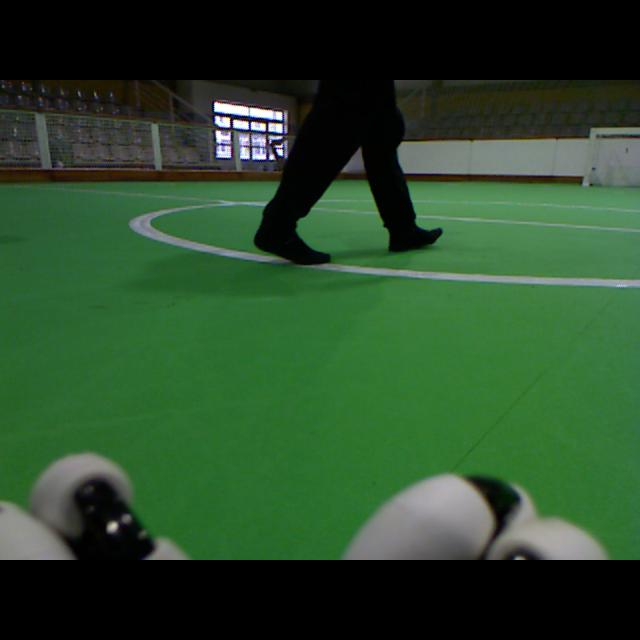goal: (583, 127, 598, 186)
